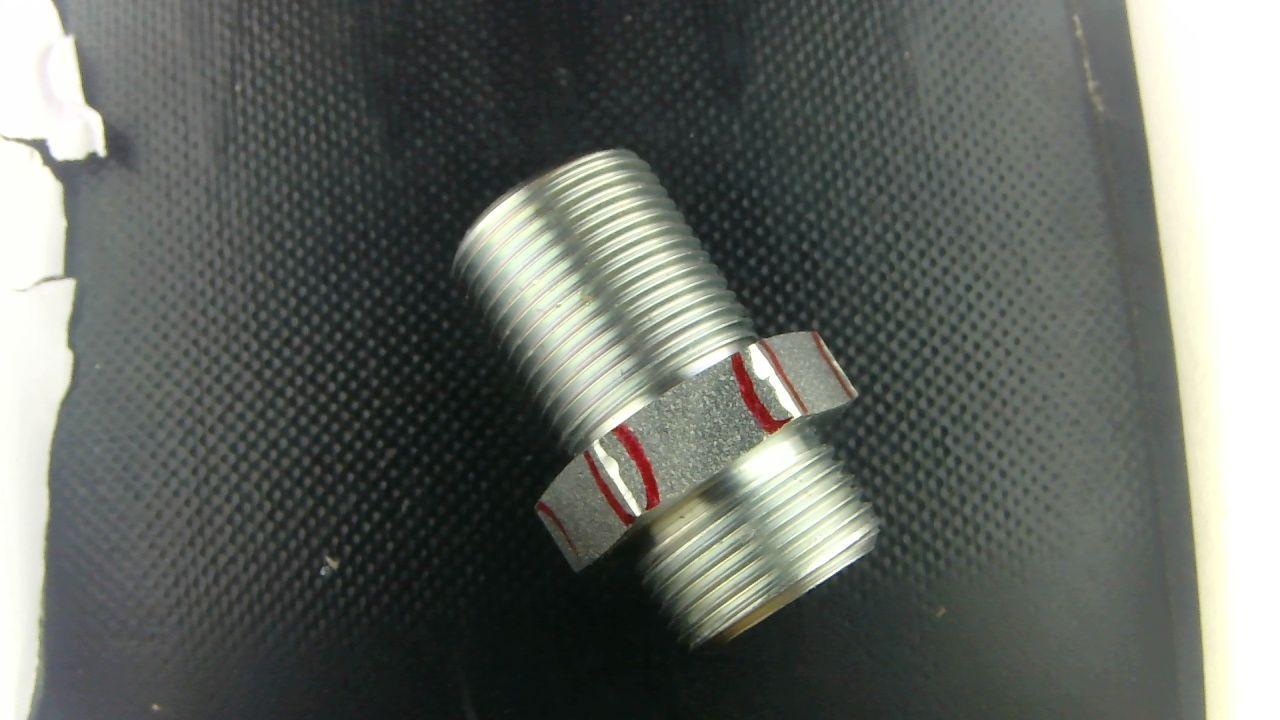Hex_damage: (590, 437, 656, 521)
